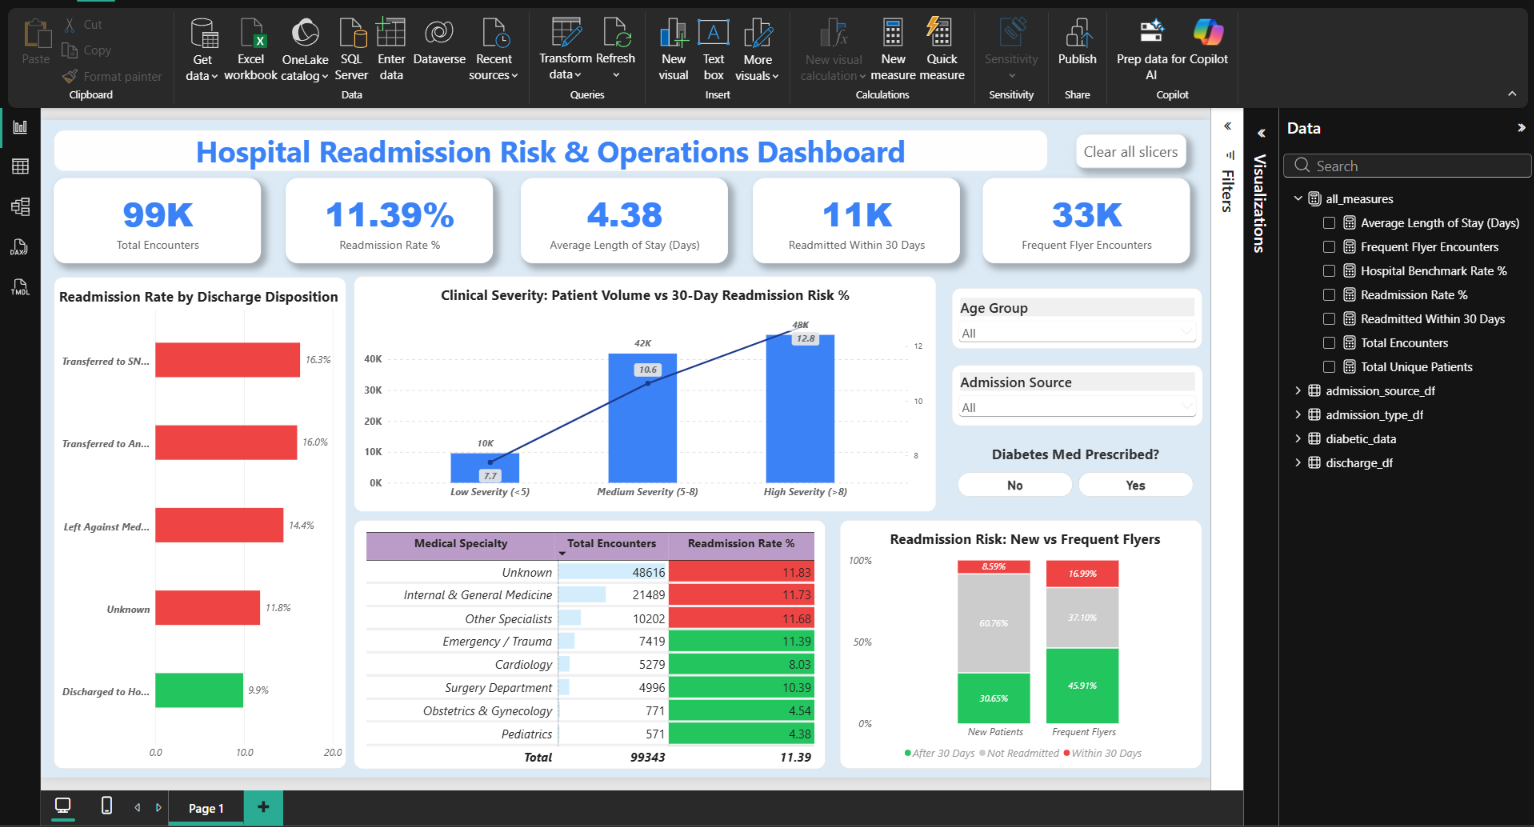

This screenshot's page, from the dashboard's own definition file:
{"tool":"powerbi","page":{"name":"Page 1","canvas":[1920,1080],"ordinal":0},"visuals":[{"type":"hundredPercentStackedColumnChart","title":"Readmission Risk: New vs Frequent Flyers","fields":{"Category":["diabetic_data.Patient Cohort"],"Y":["all_measures.Total Encounters"],"Series":["diabetic_data.readmitted"]},"box":[1311.6,655.8,594.8,408.1],"z":1500},{"type":"clusteredBarChart","title":"Readmission Rate by Discharge Disposition","fields":{"Category":["discharge_df.discharge_disposition_desc"],"Y":["all_measures.Readmission Rate %"]},"box":[20.9,257,480,807.6],"z":2000},{"type":"lineClusteredColumnComboChart","title":"Clinical Severity: Patient Volume vs 30-Day Readmission Risk %","fields":{"Y":["all_measures.Total Encounters"],"Category":["diabetic_data.Severity_Score"],"Y2":["all_measures.Readmission Rate %"]},"box":[514.5,256.4,955.8,387.2],"z":3000},{"type":"pivotTable","fields":{"Rows":["diabetic_data.medical_specialty"],"Values":["all_measures.Total Encounters","all_measures.Readmission Rate %"]},"box":[514.5,655.8,774.4,409],"z":4000},{"type":"cardVisual","fields":{"Data":["all_measures.Total Encounters"]},"box":[20.9,95.9,340,140],"z":5000},{"type":"advancedSlicerVisual","title":"Diabetes Med Prescribed?","fields":{"Values":["diabetic_data.diabetesMed"]},"box":[1494.8,526.7,406.4,100],"z":6000},{"type":"slicer","fields":{"Values":["diabetic_data.age"]},"box":[1494.8,275.6,411,100],"z":7000},{"type":"slicer","fields":{"Values":["admission_source_df.admission_source_desc"]},"box":[1494.8,402.9,411.6,100],"z":8000},{"type":"cardVisual","fields":{"Data":["all_measures.Frequent Flyer Encounters"]},"box":[1545.4,95.9,340,140],"z":9000},{"type":"cardVisual","fields":{"Data":["all_measures.Readmitted Within 30 Days"]},"box":[1169,95,340,140],"z":10000},{"type":"cardVisual","fields":{"Data":["all_measures.Average Length of Stay (Days)"]},"box":[788.4,95.9,340,140],"z":11000},{"type":"cardVisual","fields":{"Data":["all_measures.Readmission Rate %"]},"box":[402.9,95.9,340,140],"z":12000},{"type":"actionButton","box":[1698.8,22.7,181.4,55.8],"z":13000},{"type":"textbox","box":[20.9,15.7,1630.8,68],"z":14000}]}

Visuals, with their boxes on the page's 1920x1080 design canvas (x1, y1, x2, y2). These are canvas units, not pixel positions in the 1534x827 screenshot, which may show the page scaled, cropped or inside an application window:
"Readmission Risk: New vs Frequent Flyers" hundredPercentStackedColumnChart: detection(1312, 656, 1906, 1064)
"Readmission Rate by Discharge Disposition" clusteredBarChart: detection(21, 257, 501, 1065)
"Clinical Severity: Patient Volume vs 30-Day Readmission Risk %" lineClusteredColumnComboChart: detection(514, 256, 1470, 644)
pivotTable - diabetic_data.medical_specialty x all_measures.Total Encounters: detection(514, 656, 1289, 1065)
cardVisual - all_measures.Total Encounters: detection(21, 96, 361, 236)
"Diabetes Med Prescribed?" advancedSlicerVisual: detection(1495, 527, 1901, 627)
slicer - diabetic_data.age: detection(1495, 276, 1906, 376)
slicer - admission_source_df.admission_source_desc: detection(1495, 403, 1906, 503)
cardVisual - all_measures.Frequent Flyer Encounters: detection(1545, 96, 1885, 236)
cardVisual - all_measures.Readmitted Within 30 Days: detection(1169, 95, 1509, 235)
cardVisual - all_measures.Average Length of Stay (Days): detection(788, 96, 1128, 236)
cardVisual - all_measures.Readmission Rate %: detection(403, 96, 743, 236)
actionButton: detection(1699, 23, 1880, 78)
textbox: detection(21, 16, 1652, 84)
